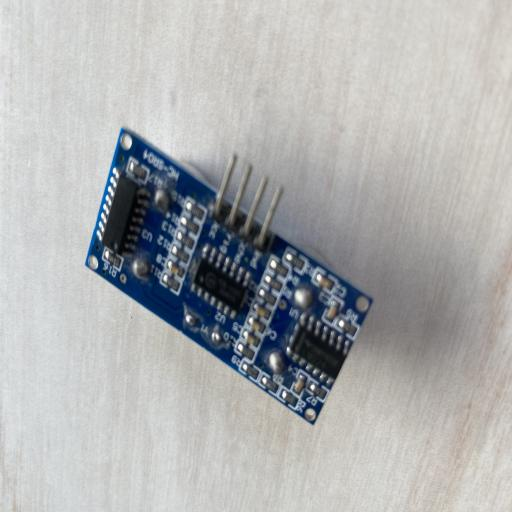Ultrasonic Sensor: (83, 125, 375, 427)
